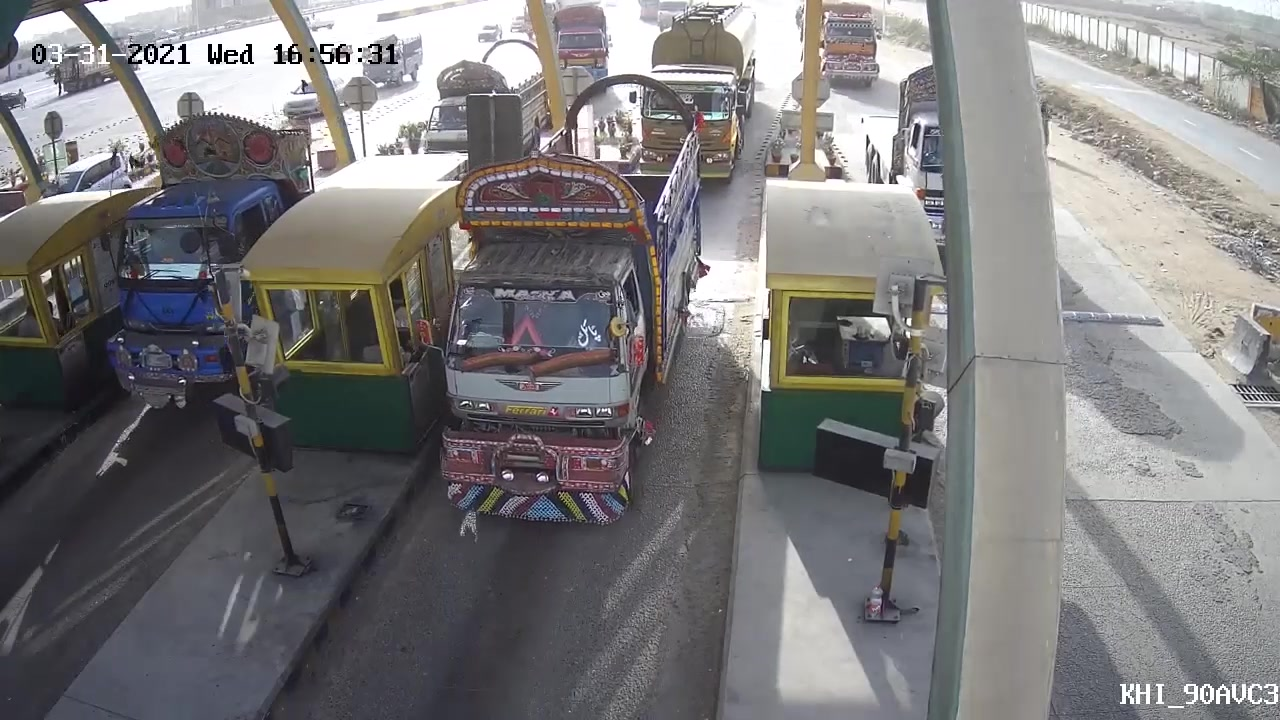F5: (431, 70, 712, 546)
